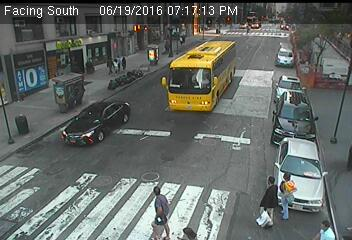neg: (118, 112, 142, 144), (208, 36, 231, 68), (64, 80, 84, 107), (209, 123, 229, 149), (177, 34, 193, 56), (26, 83, 42, 105), (246, 47, 262, 68), (264, 40, 275, 54)
pos: (234, 170, 281, 232), (274, 171, 314, 225), (138, 184, 178, 238), (110, 56, 123, 72), (122, 55, 133, 70)
